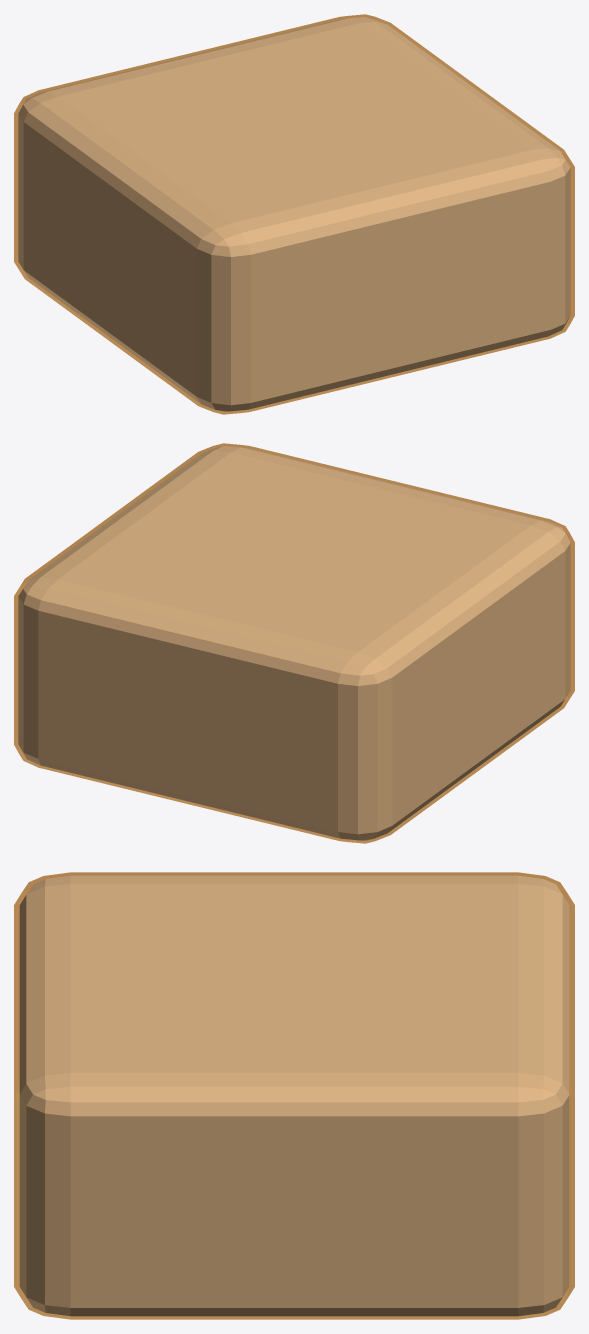
Rendered from quadrado baunilha.glb.
3 views of the same model, one above another, from view 1: azimuth 30°, elevation 25°; view 2: azimuth 150°, elevation 25°; view 3: azimuth 270°, elevation 25° (orthographic). The views are drawn at different scales.
Parts seen in each view (by area): view 1: Cube.011; view 2: Cube.011; view 3: Cube.011.
Boxes of the visible parts, x1,y1,x2,y2 form: Cube.011: (14,14,574,414); Cube.011: (14,443,574,843); Cube.011: (14,872,574,1319).
Bounding box in the file's own units: 21.22 × 10.02 × 21.22.
